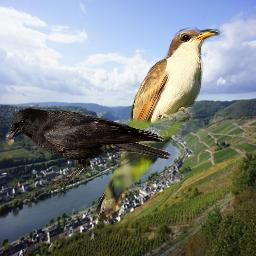Crow: (3, 107, 171, 188)
Cuckoo: (90, 24, 222, 225)
